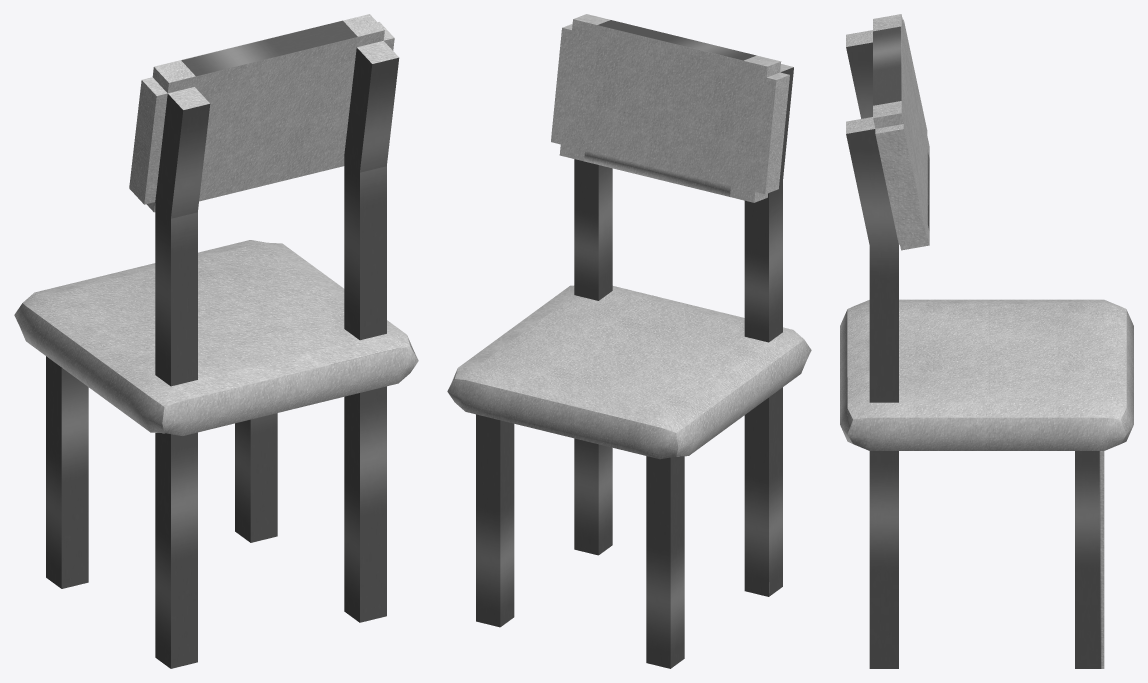
Rendered from Chair.fbx.
The picture shows the model from 3 angles, left to right: view 1: azimuth 30°, elevation 25°; view 2: azimuth 150°, elevation 25°; view 3: azimuth 270°, elevation 25°; orthographic projection. The views are drawn at different scales.
Parts seen in each view (by area): view 1: Box001; view 2: Box001; view 3: Box001.
Boxes of the visible parts, bbox=[...] form: Box001: bbox=[14, 14, 418, 668]; Box001: bbox=[447, 14, 811, 668]; Box001: bbox=[840, 14, 1133, 668].
Size of the model in its own units: 11.81 by 24.66 by 11.81.
1 material, 1 textured.
